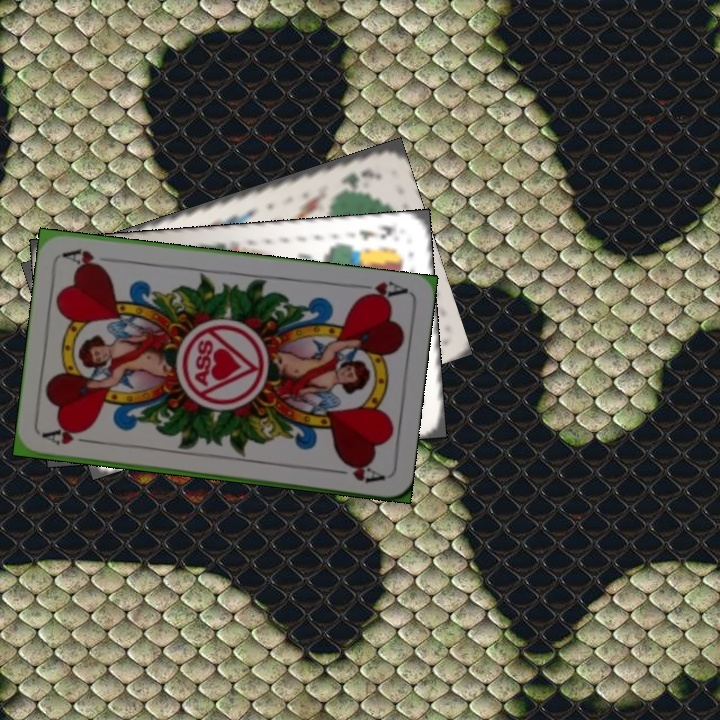EK: (354, 220, 398, 243)
GK: (337, 167, 376, 189)
HA: (350, 277, 409, 305), (40, 425, 99, 448)
